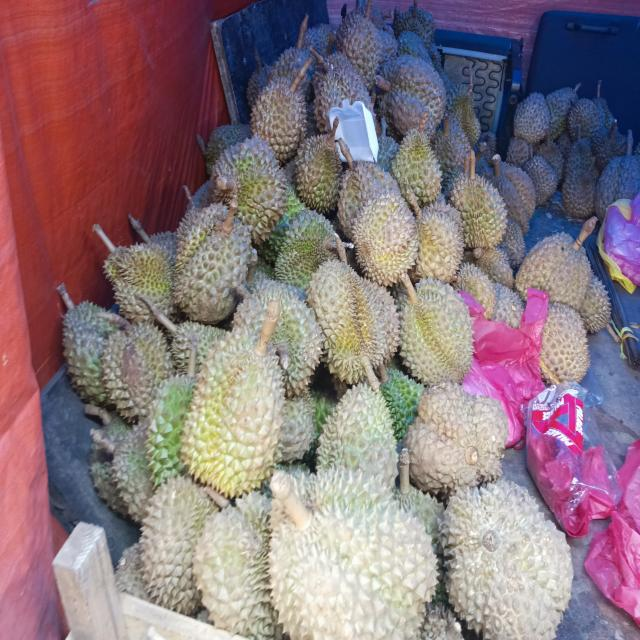mature: (269, 467, 437, 640), (440, 480, 573, 640), (182, 299, 284, 497), (403, 383, 508, 498), (307, 262, 399, 391), (140, 476, 217, 615), (174, 204, 252, 324), (317, 383, 398, 488), (398, 275, 474, 385), (515, 216, 597, 311), (352, 185, 418, 286), (251, 57, 311, 163), (374, 55, 446, 141), (449, 150, 506, 248)
